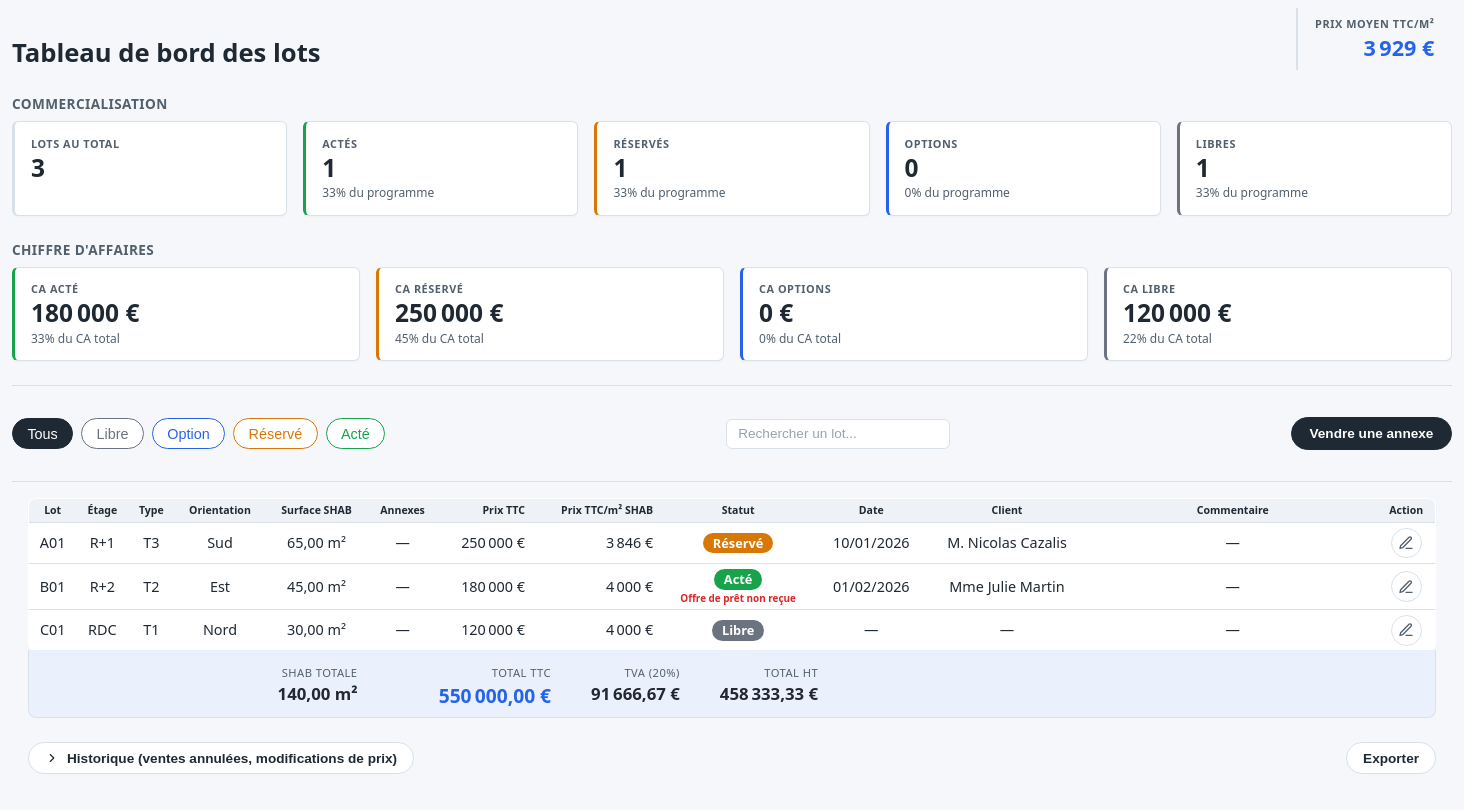
Test: Lots — historique › masqué par défaut, affiché au clic, avec le détail d'une annulation
This screenshot has width=1464, height=810.
Check: the table is shown, box [28,498,1436,651]
Click the button "Historique (ventes annulées, modifications de prix)". click: (221,758)
box: [28,742,414,774]
(page scrolled)
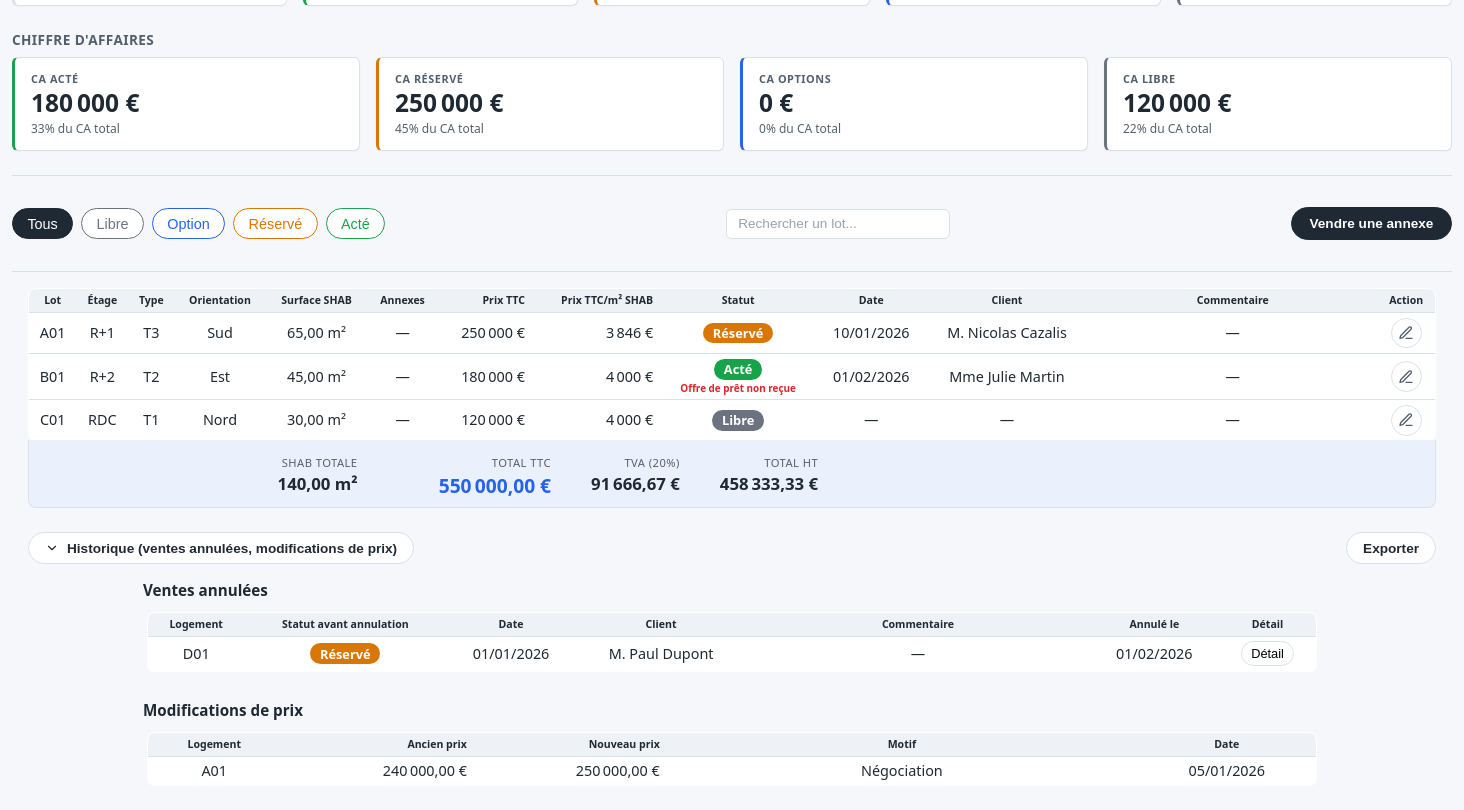
Check: the heading "Ventes annulées" is shown, box [143,580,268,600]
Check: the text "D01" is shown, box [148,636,244,672]
Check: the heading "Modifications de prix" is shown, box [143,700,303,720]
Click the button "Détail". click: (1268,654)
box: [1241,641,1294,666]
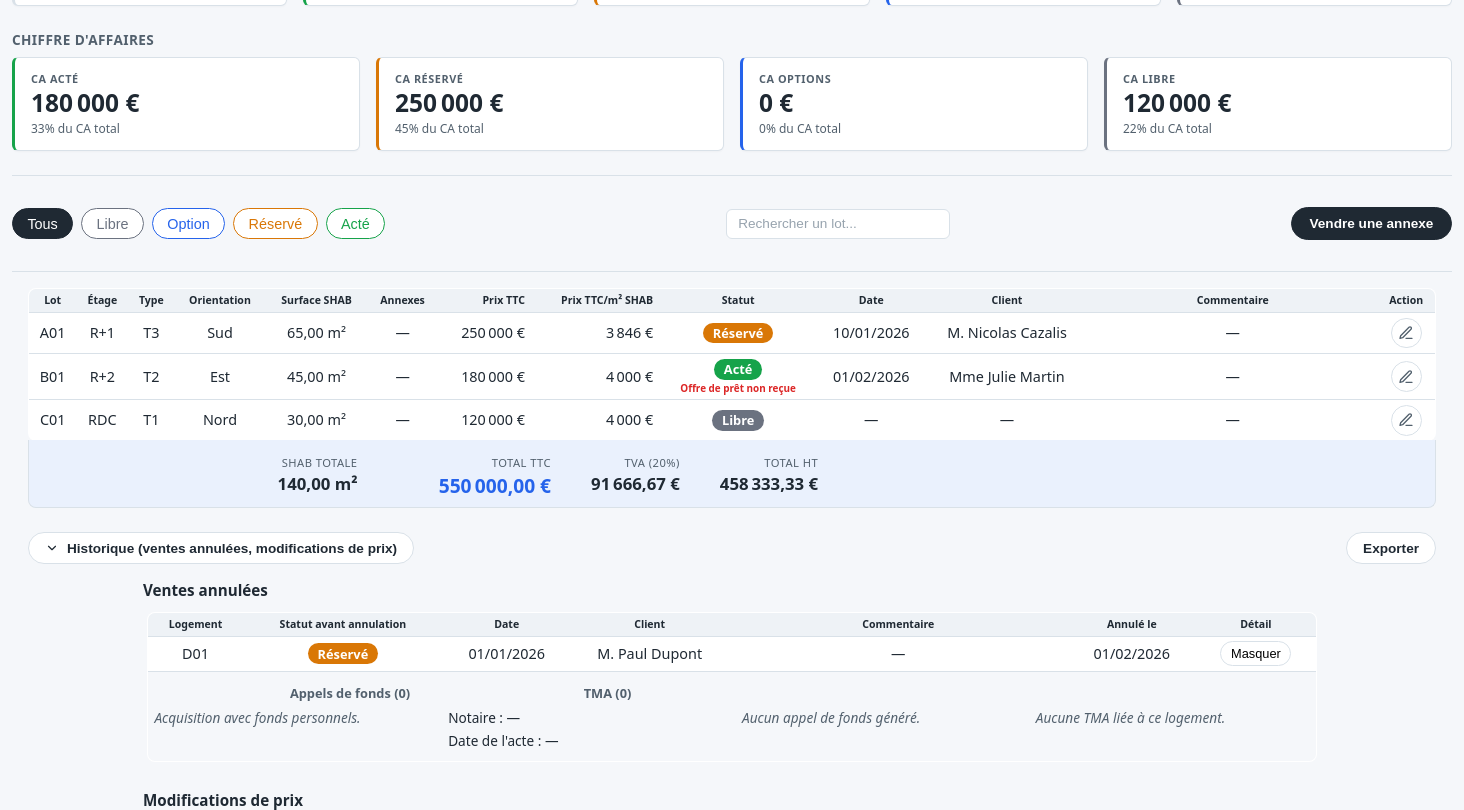
Check: the text "Acquisition avec fonds personnels." is shown, box [154,708,361,727]
Click the button "Masquer". click: (1256,654)
box: [1220,641,1291,666]
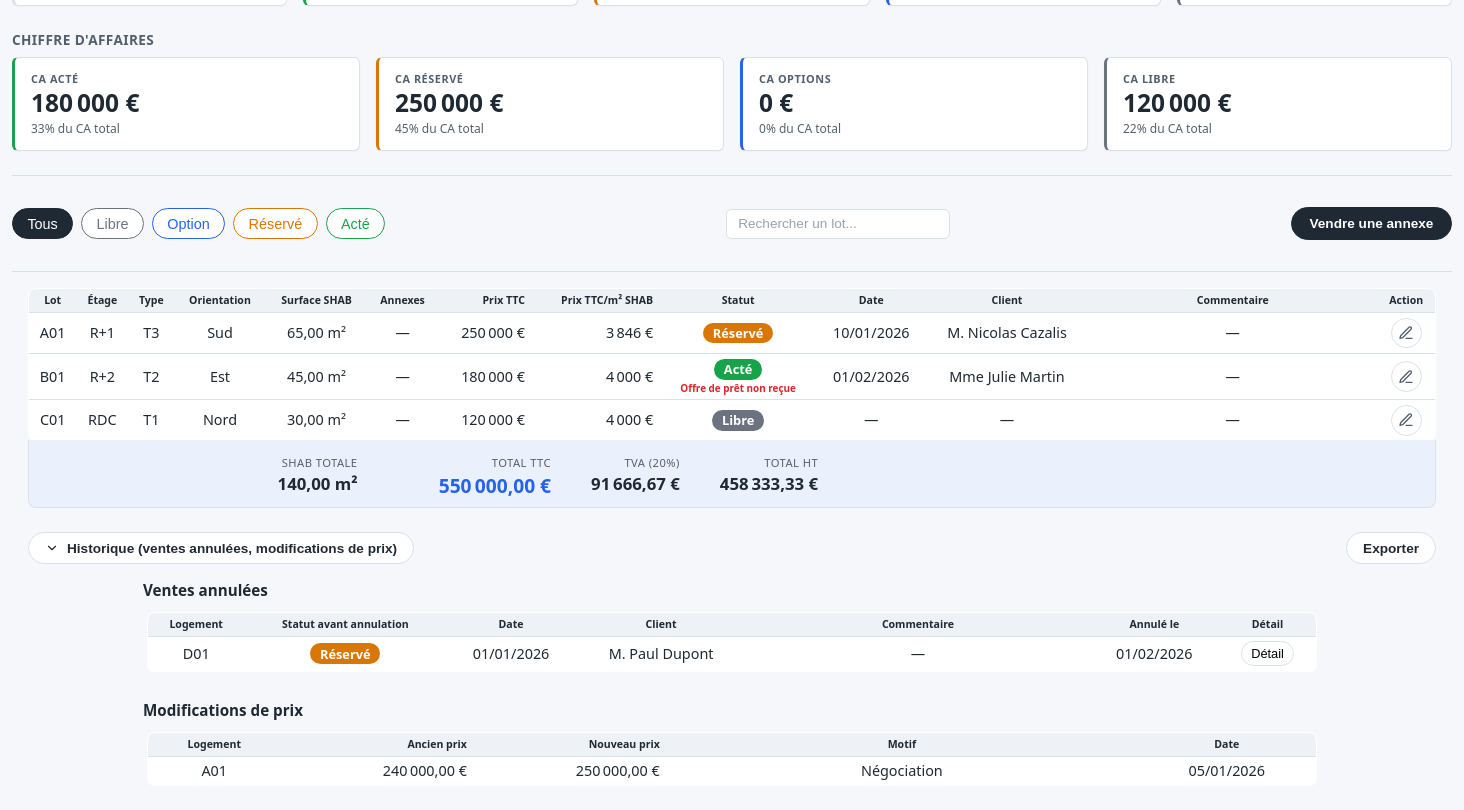
Check: the text "Acquisition avec fonds personnels." is gone
